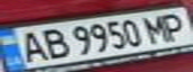0: (118, 16, 145, 47)
5: (106, 18, 130, 51)
9: (87, 20, 112, 53), (69, 22, 93, 56)
A: (9, 28, 51, 64)
B: (33, 26, 69, 61)
M: (139, 11, 175, 44)
P: (154, 10, 193, 42)
